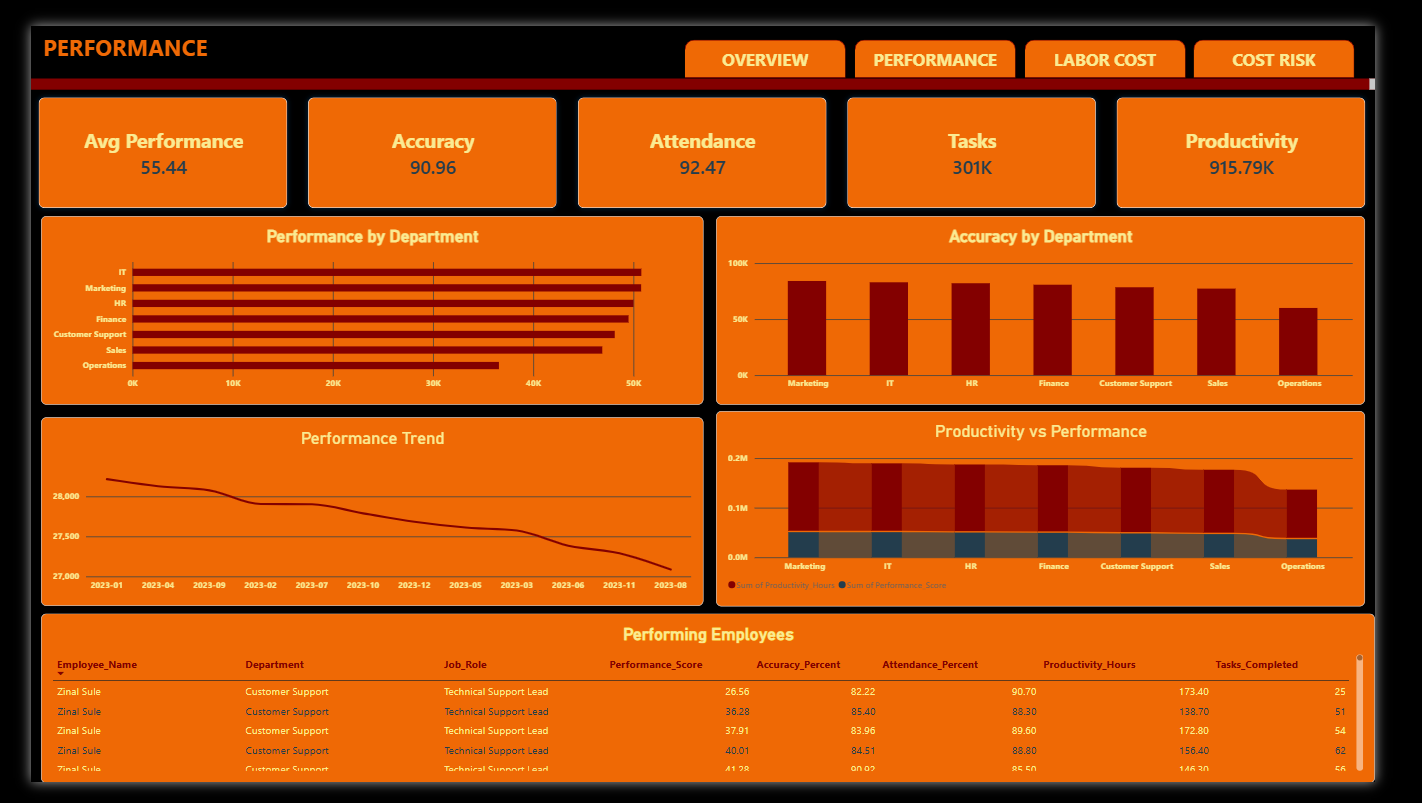

The page's visual inventory and layout, read from the dashboard file:
{"tool":"powerbi","page":{"name":"PERFORMANCE","canvas":[1920,1080],"ordinal":1},"visuals":[{"type":"textbox","box":[0,0,1920.1,74.2],"z":0},{"type":"textbox","box":[0,74.2,1920.1,16.3],"z":1000},{"type":"actionButton","box":[933.8,19.9,229.8,54.3],"z":2000},{"type":"actionButton","box":[1176.3,19.9,229.8,54.3],"z":3000},{"type":"actionButton","box":[1418.8,19.9,229.8,54.3],"z":4000},{"type":"actionButton","box":[1661.3,19.9,229.8,54.3],"z":5000},{"type":"cardVisual","fields":{"Data":["Avg(workforce_analytics workforce_analysis_view.Performance_Score)","Avg(workforce_analytics workforce_analysis_view.Accuracy_Percent)","Avg(workforce_analytics workforce_analysis_view.Attendance_Percent)","Sum(workforce_analytics workforce_analysis_view.Tasks_Completed)","Sum(workforce_analytics workforce_analysis_view.Productivity_Hours)"]},"box":[0,90.5,1920.1,181],"z":6000},{"type":"barChart","title":"Performance by Department","fields":{"Category":["workforce_analytics workforce_analysis_view.Department"],"Y":["Sum(workforce_analytics workforce_analysis_view.Performance_Score)"]},"box":[13.5,271.2,946.2,269.2],"z":7000},{"type":"columnChart","title":"Accuracy by Department","fields":{"Category":["workforce_analytics workforce_analysis_view.Department"],"Y":["Sum(workforce_analytics workforce_analysis_view.Accuracy_Percent)"]},"box":[978.8,271.2,926.9,269.2],"z":8000},{"type":"lineChart","title":"Performance Trend","fields":{"Category":["workforce_analytics workforce_analysis_view.Month"],"Y":["Sum(workforce_analytics workforce_analysis_view.Performance_Score)"]},"box":[13.5,559.6,946.2,269.2],"z":9000},{"type":"ribbonChart","title":"Productivity vs Performance","fields":{"Category":["workforce_analytics workforce_analysis_view.Department"],"Y":["Sum(workforce_analytics workforce_analysis_view.Productivity_Hours)","Sum(workforce_analytics workforce_analysis_view.Performance_Score)"]},"box":[978.8,550,926.9,278.8],"z":10000},{"type":"tableEx","title":"Performing Employees","fields":{"Values":["workforce_analytics workforce_analysis_view.Employee_Name","workforce_analytics workforce_analysis_view.Department","workforce_analytics workforce_analysis_view.Job_Role","workforce_analytics workforce_analysis_view.Performance_Score","workforce_analytics workforce_analysis_view.Accuracy_Percent","workforce_analytics workforce_analysis_view.Attendance_Percent","workforce_analytics workforce_analysis_view.Productivity_Hours","workforce_analytics workforce_analysis_view.Tasks_Completed"]},"box":[13.5,838.5,1905.8,242.3],"z":11000}]}

Visuals, with their boxes in screenshot pixels (x1, y1, x2, y2), scaled from the page's 1920x1080 canvas onto the 1422x803 screenshot:
textbox: (left=0, top=0, right=1421, bottom=55)
textbox: (left=0, top=55, right=1421, bottom=67)
actionButton: (left=692, top=15, right=862, bottom=55)
actionButton: (left=871, top=15, right=1041, bottom=55)
actionButton: (left=1051, top=15, right=1221, bottom=55)
actionButton: (left=1230, top=15, right=1401, bottom=55)
cardVisual - Avg(workforce_analytics workforce_analysis_view.Performance_Score) x Avg(workforce_analytics workforce_analysis_view.Accuracy_Percent): (left=0, top=67, right=1421, bottom=202)
"Performance by Department" barChart: (left=10, top=202, right=711, bottom=402)
"Accuracy by Department" columnChart: (left=725, top=202, right=1411, bottom=402)
"Performance Trend" lineChart: (left=10, top=416, right=711, bottom=616)
"Productivity vs Performance" ribbonChart: (left=725, top=409, right=1411, bottom=616)
"Performing Employees" tableEx: (left=10, top=623, right=1421, bottom=802)
